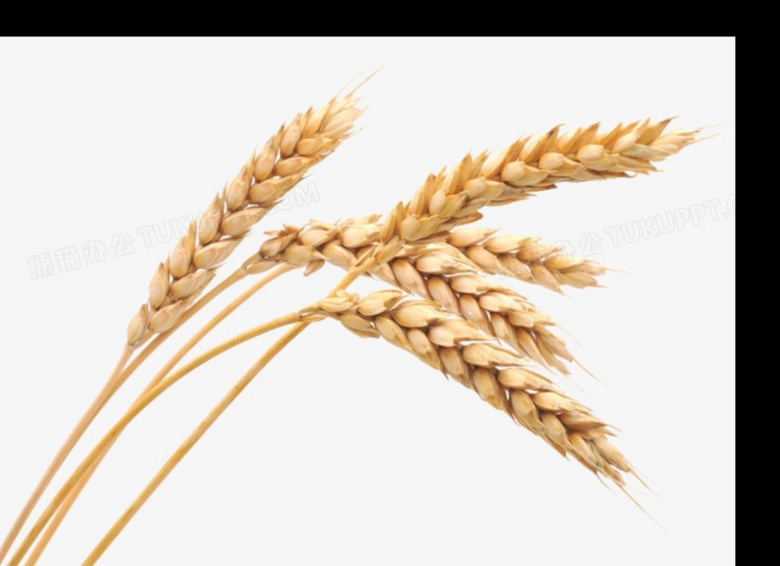wheat: (108, 93, 352, 378), (331, 107, 700, 293), (301, 294, 636, 489)
